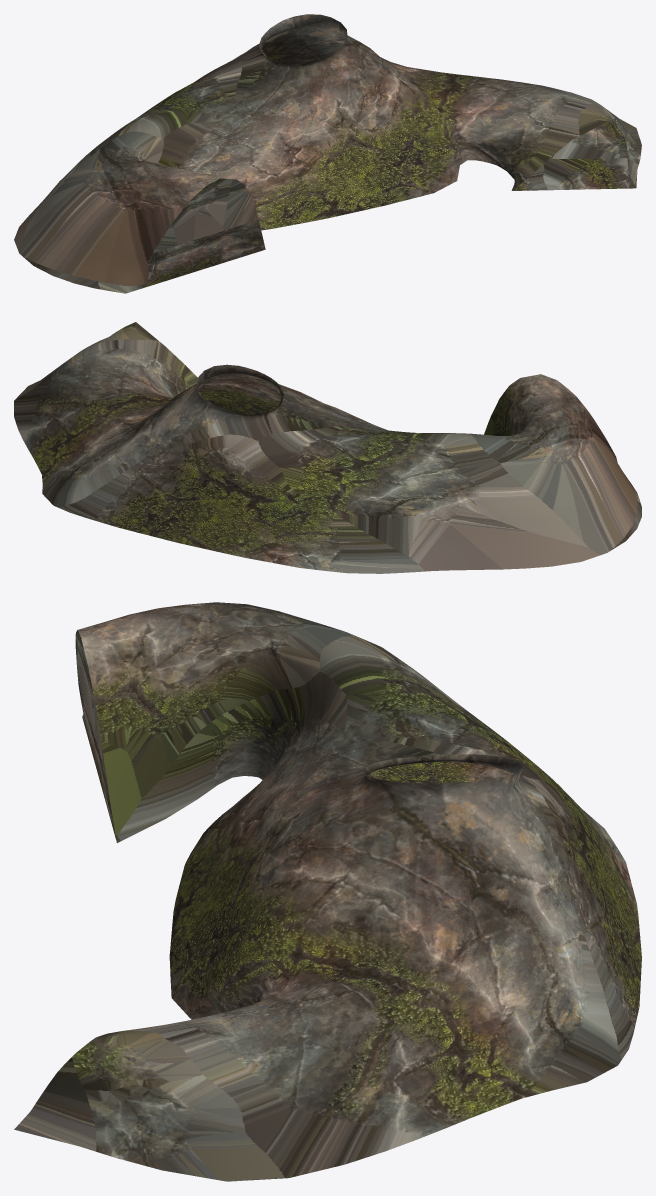
File: cave.fbx
3 renders of one model, top to bottom at view 1: azimuth 30°, elevation 25°; view 2: azimuth 150°, elevation 25°; view 3: azimuth 270°, elevation 25°, orthographic. The views are drawn at different scales.
Parts seen in each view (by area): view 1: polySurface191; view 2: polySurface191; view 3: polySurface191.
Boxes of the visible parts, x1=… form: polySurface191: x1=14, y1=14, x2=641, y2=293; polySurface191: x1=14, y1=322, x2=641, y2=573; polySurface191: x1=14, y1=602, x2=641, y2=1181.
Bounding box in the file's own units: 9319 × 1759 × 4960.
